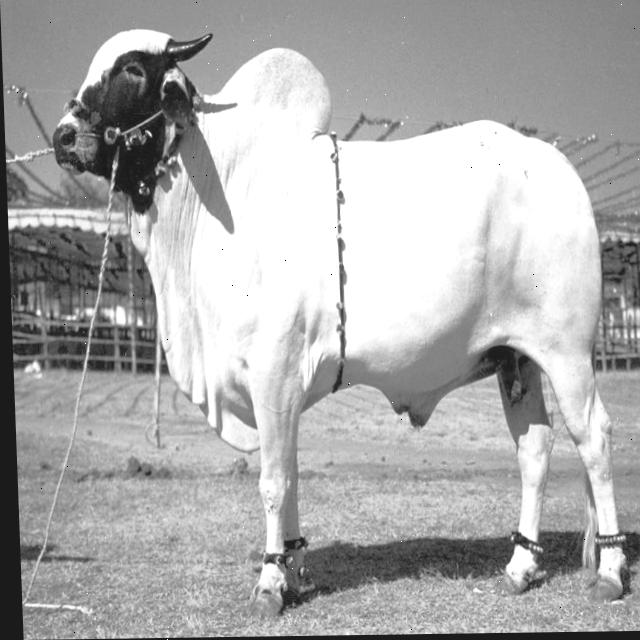Cow: (47, 19, 631, 625)
